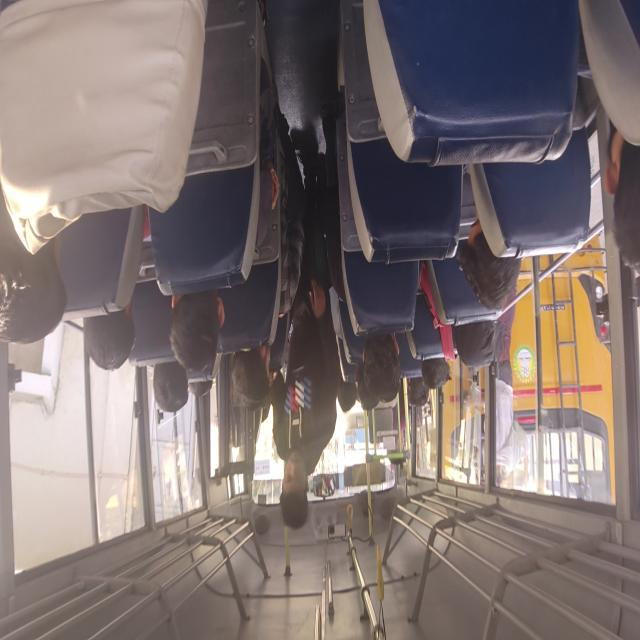person: (456, 217, 530, 489), (603, 120, 639, 274), (168, 289, 226, 373), (355, 331, 401, 411)
